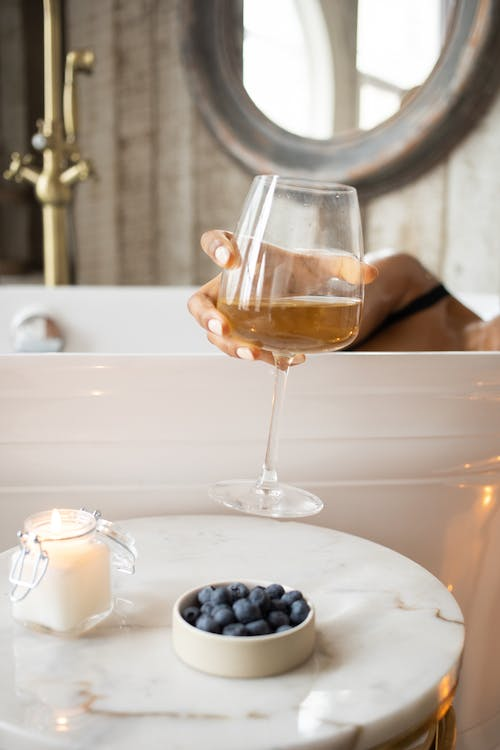alcohol: (208, 172, 366, 520)
